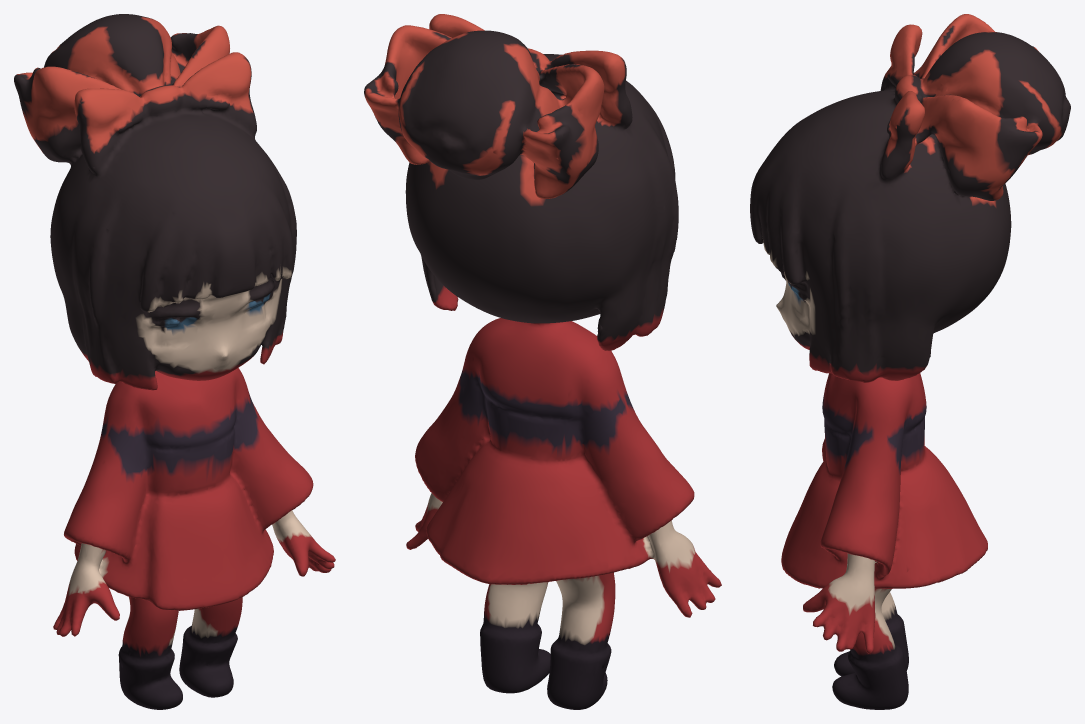
File: omni_rest_mat.glb
3 renders of one model, left to right at view 1: azimuth 30°, elevation 25°; view 2: azimuth 150°, elevation 25°; view 3: azimuth 270°, elevation 25°, orthographic. The views are drawn at different scales.
Parts seen in each view (by area): view 1: tmpxlglp2ih.ply; view 2: tmpxlglp2ih.ply; view 3: tmpxlglp2ih.ply.
Part boxes in pixels (<box>): tmpxlglp2ih.ply: <box>14,14,335,709</box>; tmpxlglp2ih.ply: <box>364,14,721,709</box>; tmpxlglp2ih.ply: <box>750,14,1070,709</box>.
Bounding box in the file's own units: 0.8571 × 1.91 × 0.8534.
